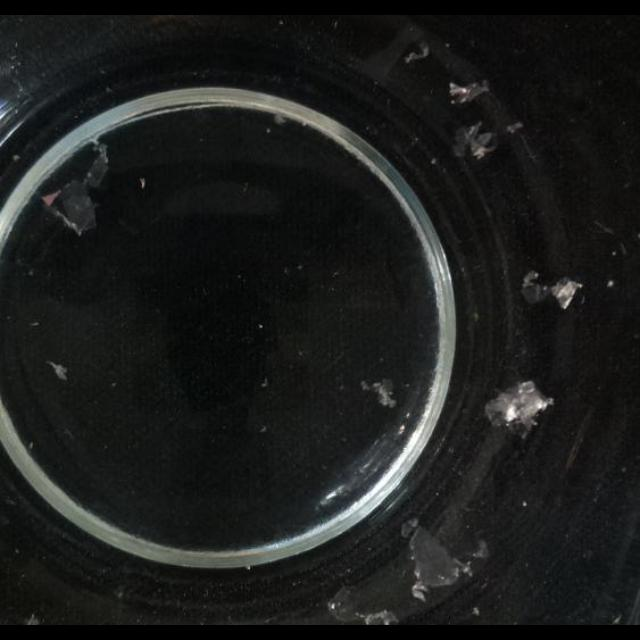Fibre: (408, 522, 474, 594), (484, 379, 554, 435), (521, 271, 581, 309), (329, 588, 396, 622), (360, 378, 396, 409), (448, 78, 489, 105), (404, 41, 430, 63), (46, 361, 68, 382), (593, 219, 615, 235), (272, 113, 288, 125), (26, 614, 40, 626), (612, 614, 622, 624), (259, 425, 267, 433)
Fragment: (44, 148, 110, 235), (454, 122, 496, 162)
microbeads: (260, 379, 268, 389), (242, 182, 250, 192), (607, 280, 615, 288)
